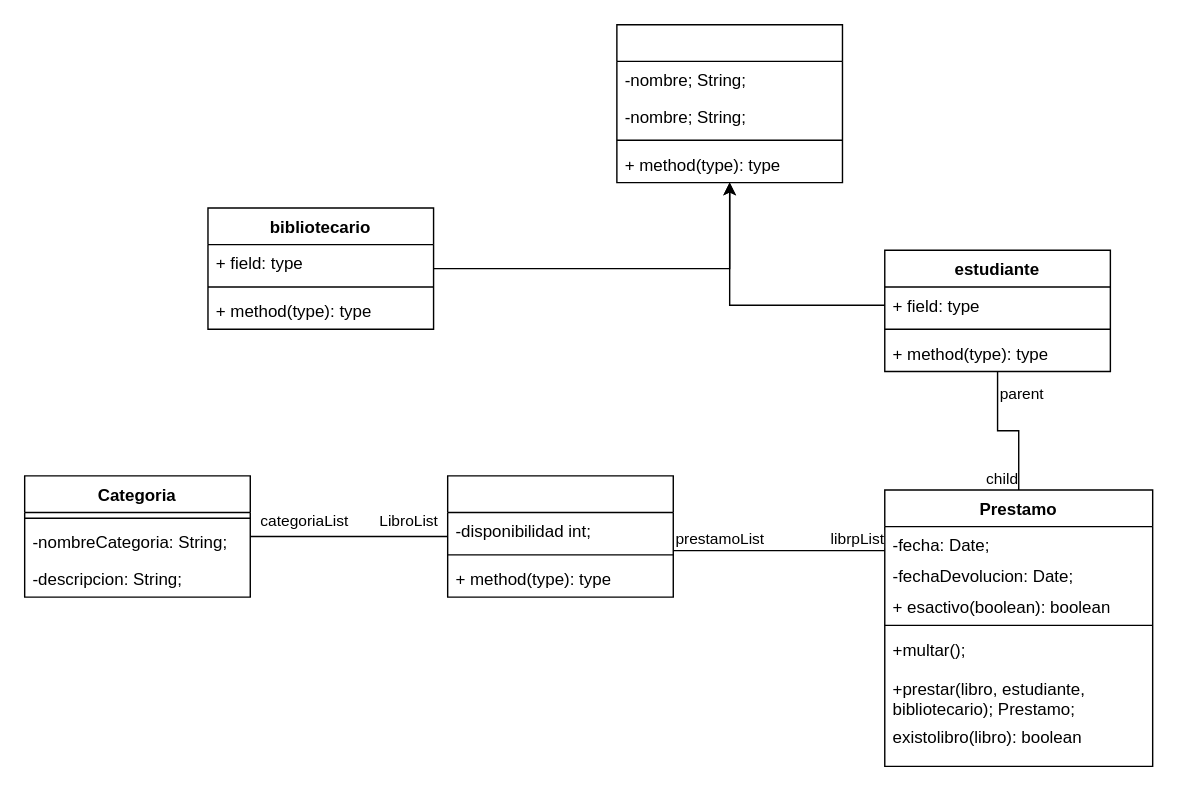
Image size: 1177x795. Some labels were removed from this diagram. Each missing label, with the box of its shape:
Libro: (446, 474, 673, 597)
persona: (615, 23, 842, 183)
